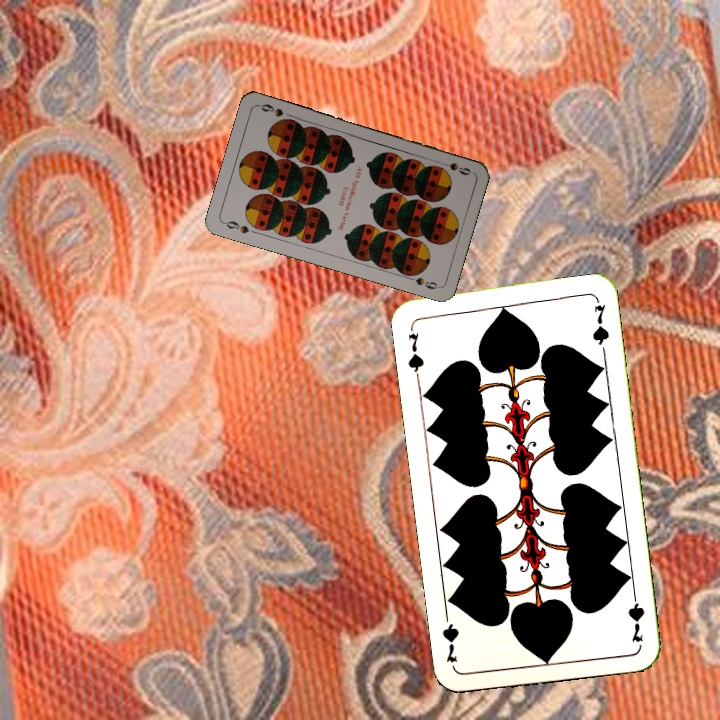G7: (624, 586, 647, 645), (404, 321, 426, 380)
S9: (434, 157, 473, 178), (219, 217, 252, 236)
